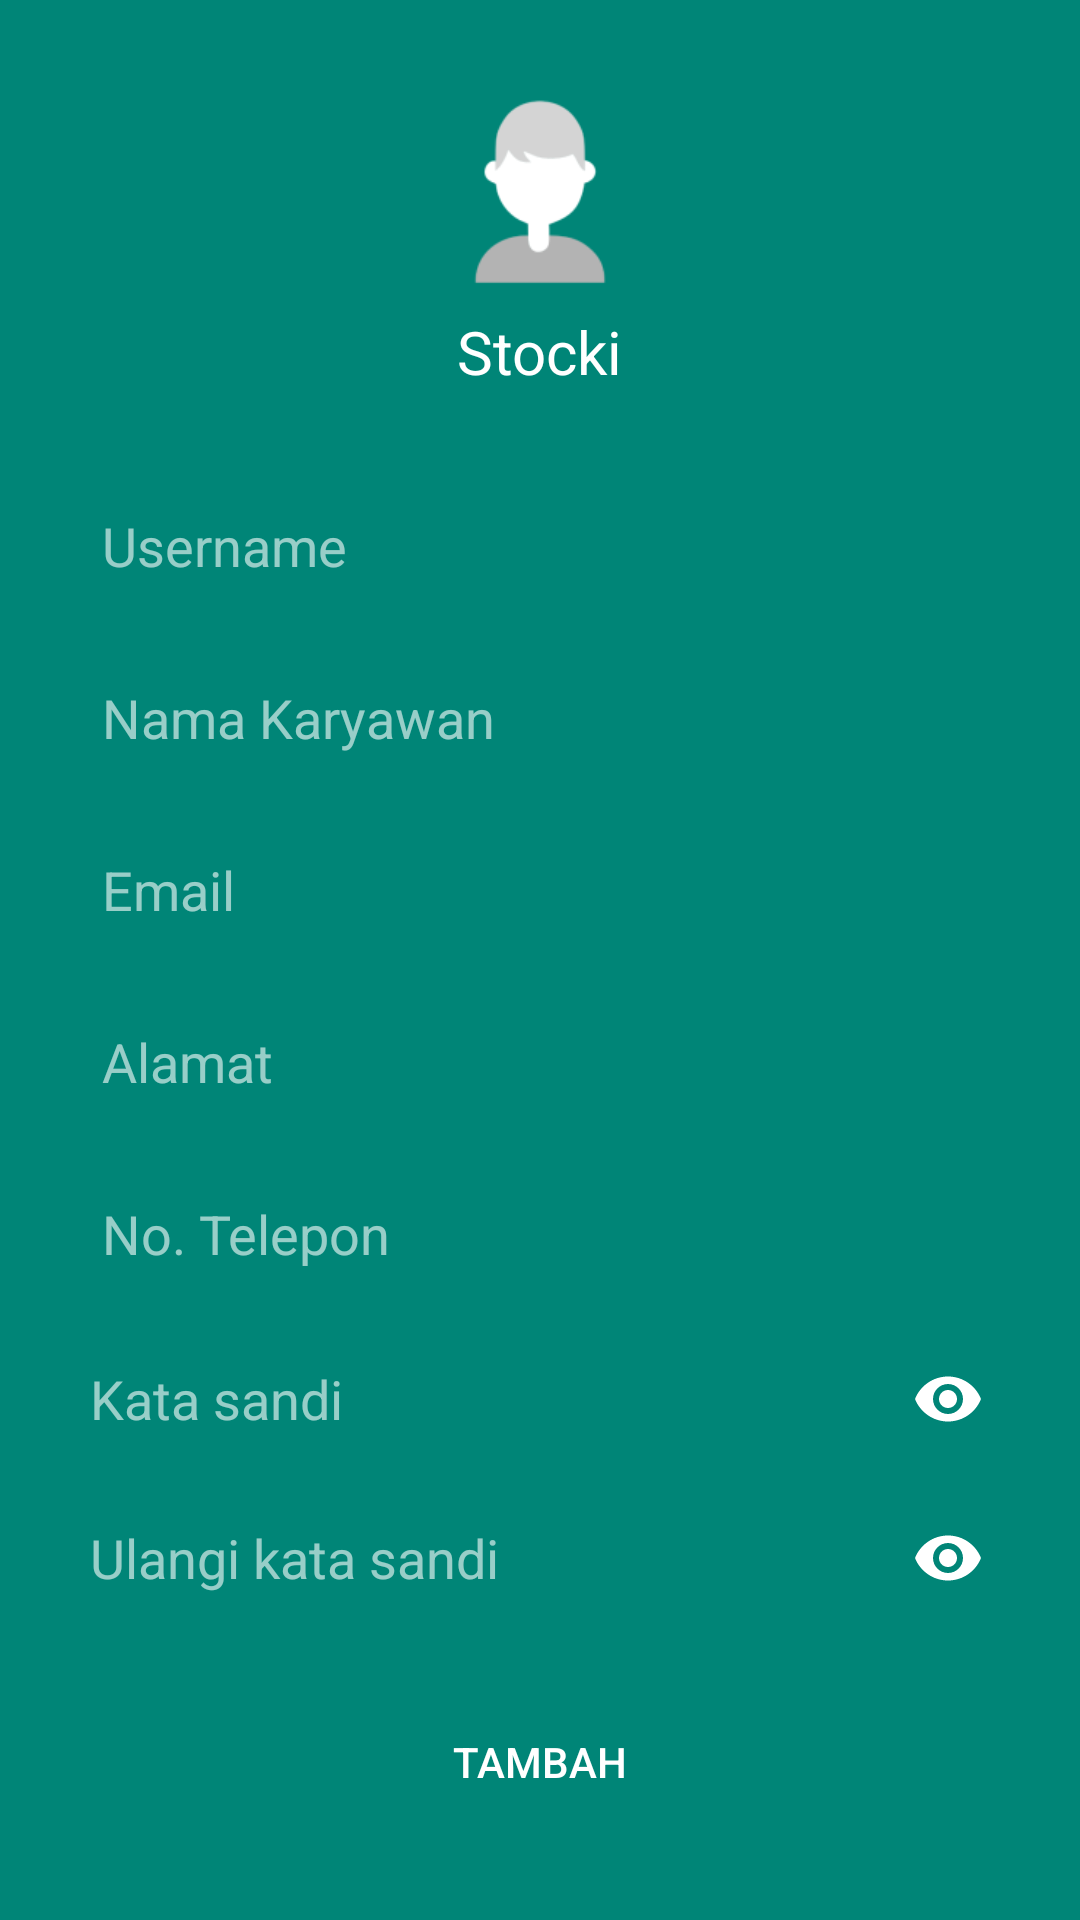

Named icons in this screenshot (1080 × 1920) and their bounding boxes, {"x1": x1, "y1": y1, "x2": x2, "y2": y2}:
admin: {"x1": 475, "y1": 100, "x2": 606, "y2": 283}
